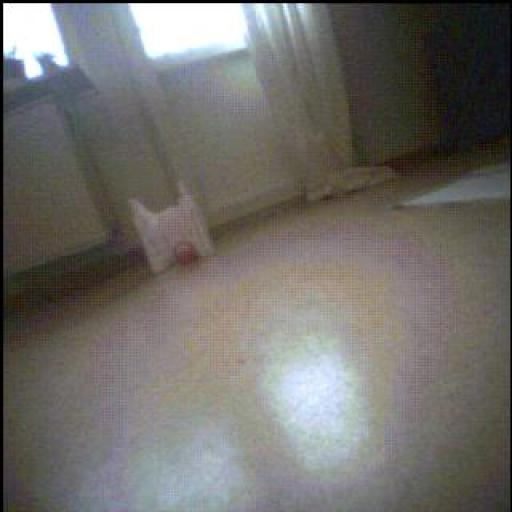Basket: (176, 243, 200, 267)
